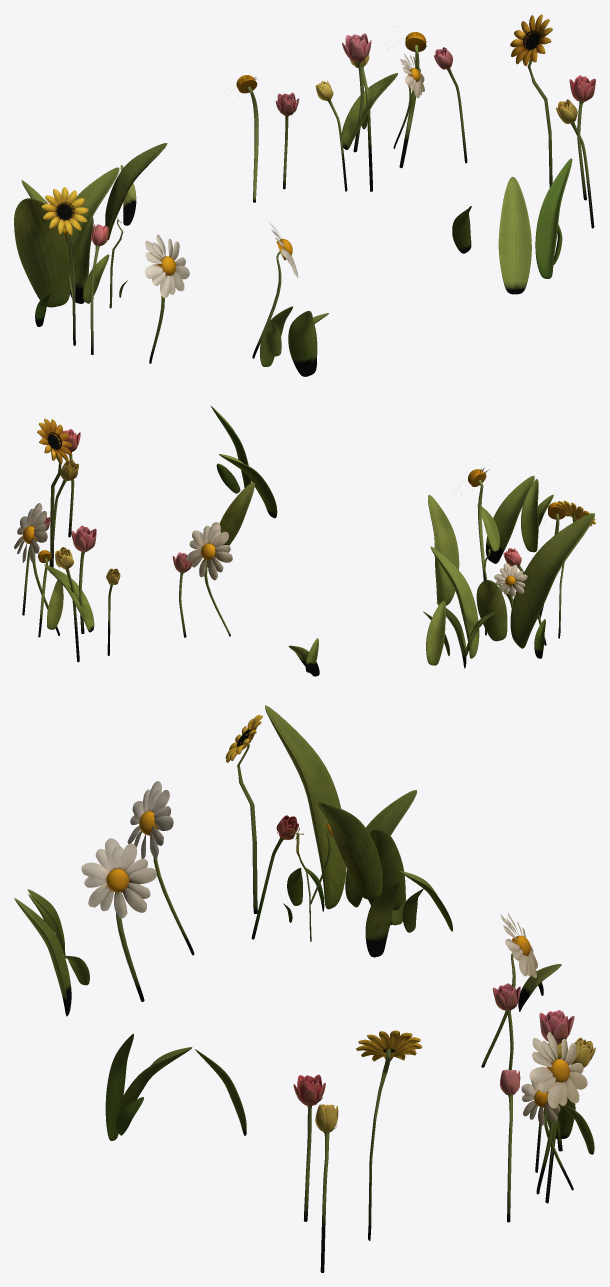
The model's file is plants_gathering.glb.
3 views of the same model, one above another, from view 1: azimuth 30°, elevation 25°; view 2: azimuth 150°, elevation 25°; view 3: azimuth 270°, elevation 25° (orthographic). The views are drawn at different scales.
Visible parts, largest first — view 1: V | 花草 · Gathering; view 2: V | 花草 · Gathering; view 3: V | 花草 · Gathering.
Boxes of the visible parts, x1=… form: V | 花草 · Gathering: x1=14, y1=14, x2=595, y2=376; V | 花草 · Gathering: x1=14, y1=406, x2=595, y2=676; V | 花草 · Gathering: x1=14, y1=705, x2=595, y2=1272.
Size of the model in its own units: 3.84 by 1.23 by 2.76.
